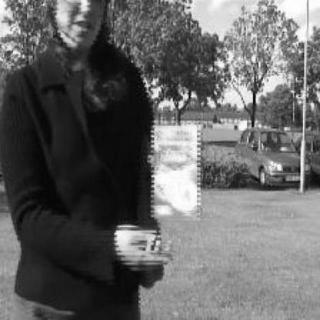other: (138, 123, 200, 280)
